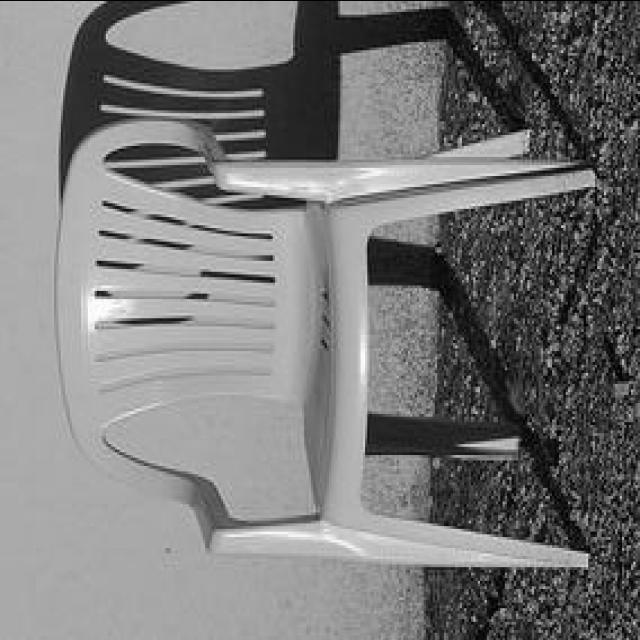chair: (54, 115, 594, 572)
